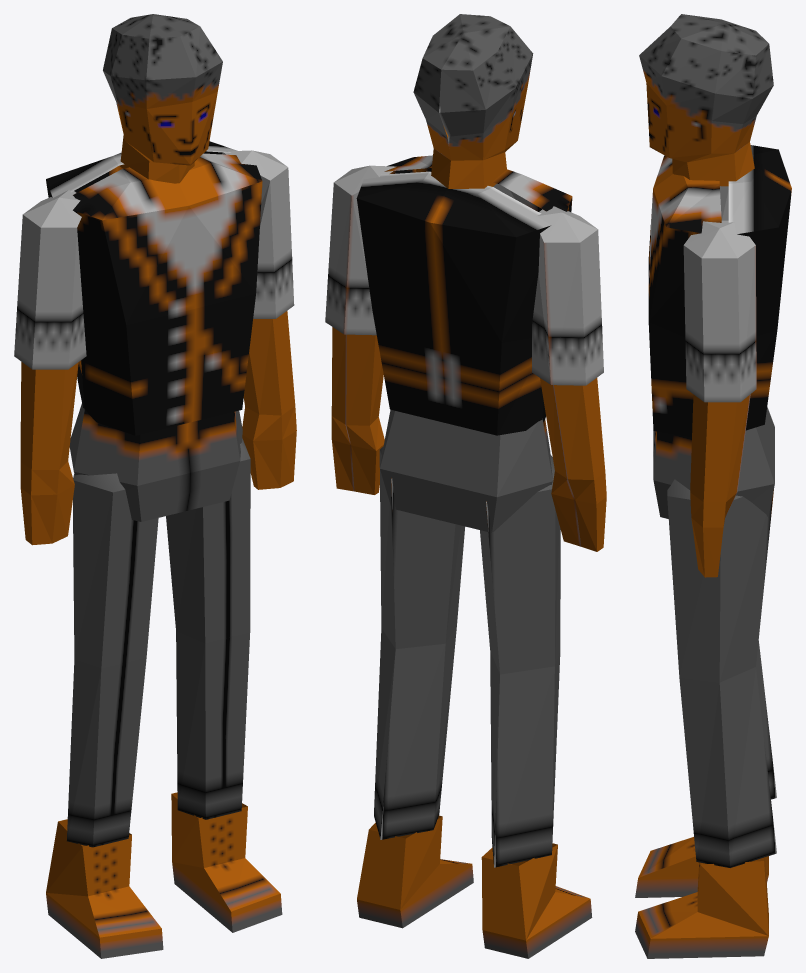
Rendered from Man3d_v3.fbx.
3 views of the same model, side by side, from view 1: azimuth 30°, elevation 25°; view 2: azimuth 150°, elevation 25°; view 3: azimuth 270°, elevation 25° (orthographic).
Parts seen in each view (by area): view 1: man; view 2: man; view 3: man.
Boxes of the visible parts, left/top/right/bottom form: man: left=14, top=14, right=296, bottom=958; man: left=325, top=14, right=606, bottom=958; man: left=635, top=14, right=791, bottom=958.
Size of the model in its own units: 26 by 83.61 by 13.34.
1 material, 1 textured.
